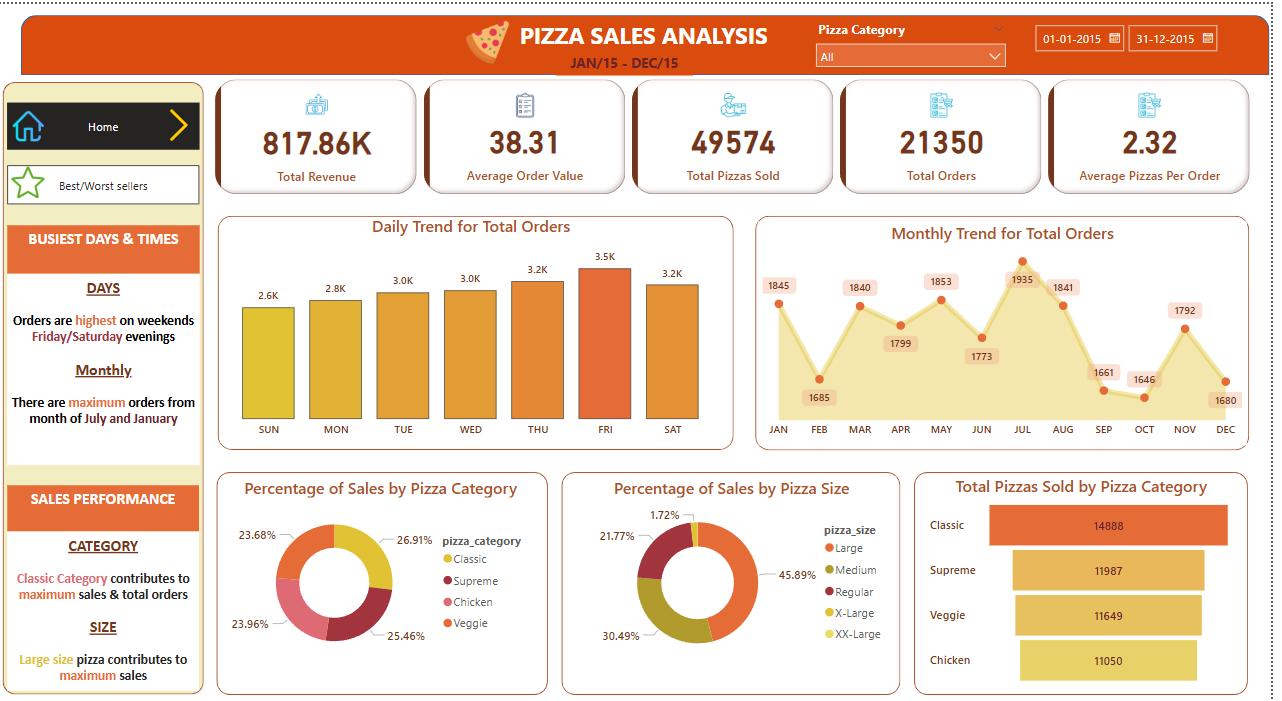

What the dashboard file says about the page in this screenshot:
{"tool":"powerbi","page":{"name":"Home","canvas":[1500,820],"ordinal":0},"visuals":[{"type":"cardVisual","fields":{"Data":["pizza_sales.Total Revenue","pizza_sales.Average Order Value","pizza_sales.Total Pizzas Sold","pizza_sales.Total Orders","pizza_sales.Average Pizzas Per Order"]},"box":[252.9,84.3,1228.6,145.7],"z":0},{"type":"shape","box":[29.4,13.7,1468.6,70.6],"z":1000},{"type":"textbox","box":[595.7,12.9,332.9,64.3],"z":2000},{"type":"image","box":[547.1,12.9,62.9,64.3],"z":3000},{"type":"shape","box":[252.9,241.4,622.9,291.4],"z":4000},{"type":"columnChart","title":"Daily Trend for Total Orders","fields":{"Category":["pizza_sales.Order Day"],"Y":["pizza_sales.Total Orders"]},"box":[253,249,612,270],"z":5000},{"type":"shape","box":[885,241,597,292],"z":6000},{"type":"areaChart","title":"Monthly Trend for Total Orders","fields":{"Category":["pizza_sales.Order Month"],"Y":["pizza_sales.Total Orders"]},"box":[897,256,574,263],"z":7000},{"type":"shape","box":[252.2,542,405.8,278.3],"z":8000},{"type":"shape","box":[1072.5,542,408.7,278.3],"z":9000},{"type":"shape","box":[658,542,414.5,278.3],"z":10000},{"type":"donutChart","title":"Percentage of Sales by Pizza Category","fields":{"Category":["pizza_sales.pizza_category"],"Y":["pizza_sales.Total Revenue"]},"box":[265.7,555.7,372.9,225.7],"z":11000},{"type":"donutChart","title":"Percentage of Sales by Pizza Size","fields":{"Y":["pizza_sales.Total Revenue"],"Category":["pizza_sales.pizza_size"]},"box":[671.4,555.7,387.1,225.7],"z":12000},{"type":"funnel","title":"Total Pizzas Sold by Pizza Category","fields":{"Category":["pizza_sales.pizza_category"],"Y":["pizza_sales.Total Pizzas Sold"]},"box":[1094.2,555.1,365.2,252.2],"z":13000},{"type":"textbox","box":[12.9,241.4,225.7,40],"z":14000},{"type":"shape","box":[0,84.1,252.2,736.2],"z":15000},{"type":"textbox","box":[13,260.9,226.1,56.5],"z":16000},{"type":"textbox","box":[13,317.4,226.1,224.6],"z":17000},{"type":"textbox","box":[12.9,565.7,225.7,54.3],"z":18000},{"type":"textbox","box":[12.9,620,225.7,187.1],"z":19000},{"type":"textbox","box":[658.8,52.9,160.8,31.4],"z":20000},{"type":"slicer","fields":{"Values":["pizza_sales.pizza_category"]},"box":[955.1,14.5,243.5,62.3],"z":21000},{"type":"slicer","fields":{"Values":["pizza_sales.order_date"]},"box":[1210.1,14.5,260.9,62.3],"z":22000},{"type":"pageNavigator","box":[13,115.9,226.1,55.1],"z":23000},{"type":"pageNavigator","box":[13,189.9,226.1,46.4],"z":24000},{"type":"image","box":[13,120.3,49.3,46.4],"z":25000},{"type":"image","box":[100,100,13,10.1],"z":26000},{"type":"image","box":[13,184.1,49.3,52.2],"z":27000},{"type":"image","box":[191.3,117.4,47.8,49.3],"z":28000}]}

Visuals, with their boxes in screenshot pixels (x1, y1, x2, y2), scaled from the page's 1500x820 canvas onto the 1282x701 screenshot:
cardVisual - pizza_sales.Total Revenue x pizza_sales.Average Order Value: {"x1": 216, "y1": 72, "x2": 1266, "y2": 197}
shape: {"x1": 25, "y1": 12, "x2": 1280, "y2": 72}
textbox: {"x1": 509, "y1": 11, "x2": 794, "y2": 66}
image: {"x1": 468, "y1": 11, "x2": 521, "y2": 66}
shape: {"x1": 216, "y1": 206, "x2": 749, "y2": 455}
"Daily Trend for Total Orders" columnChart: {"x1": 216, "y1": 213, "x2": 739, "y2": 444}
shape: {"x1": 756, "y1": 206, "x2": 1267, "y2": 456}
"Monthly Trend for Total Orders" areaChart: {"x1": 767, "y1": 219, "x2": 1257, "y2": 444}
shape: {"x1": 216, "y1": 463, "x2": 562, "y2": 700}
shape: {"x1": 917, "y1": 463, "x2": 1266, "y2": 700}
shape: {"x1": 562, "y1": 463, "x2": 917, "y2": 700}
"Percentage of Sales by Pizza Category" donutChart: {"x1": 227, "y1": 475, "x2": 546, "y2": 668}
"Percentage of Sales by Pizza Size" donutChart: {"x1": 574, "y1": 475, "x2": 905, "y2": 668}
"Total Pizzas Sold by Pizza Category" funnel: {"x1": 935, "y1": 475, "x2": 1247, "y2": 690}
textbox: {"x1": 11, "y1": 206, "x2": 204, "y2": 241}
shape: {"x1": 0, "y1": 72, "x2": 216, "y2": 700}
textbox: {"x1": 11, "y1": 223, "x2": 204, "y2": 271}
textbox: {"x1": 11, "y1": 271, "x2": 204, "y2": 463}
textbox: {"x1": 11, "y1": 484, "x2": 204, "y2": 530}
textbox: {"x1": 11, "y1": 530, "x2": 204, "y2": 690}
textbox: {"x1": 563, "y1": 45, "x2": 700, "y2": 72}
slicer - pizza_sales.pizza_category: {"x1": 816, "y1": 12, "x2": 1024, "y2": 66}
slicer - pizza_sales.order_date: {"x1": 1034, "y1": 12, "x2": 1257, "y2": 66}
pageNavigator: {"x1": 11, "y1": 99, "x2": 204, "y2": 146}
pageNavigator: {"x1": 11, "y1": 162, "x2": 204, "y2": 202}
image: {"x1": 11, "y1": 103, "x2": 53, "y2": 143}
image: {"x1": 85, "y1": 85, "x2": 97, "y2": 94}
image: {"x1": 11, "y1": 157, "x2": 53, "y2": 202}
image: {"x1": 163, "y1": 100, "x2": 204, "y2": 143}
